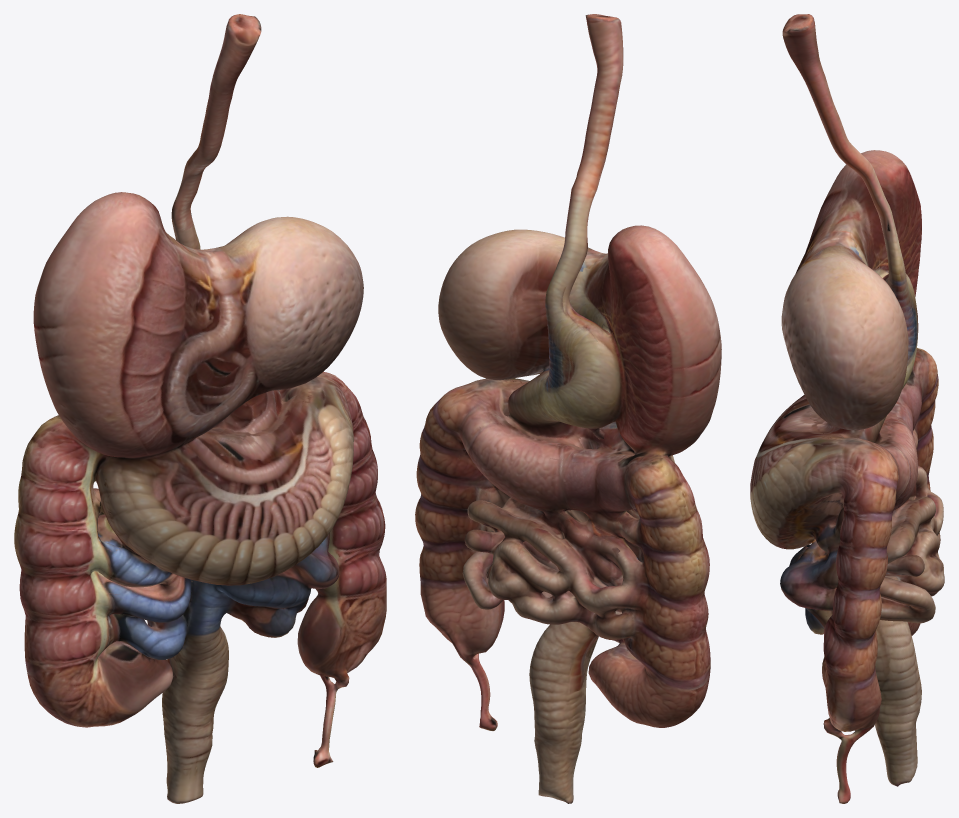
File: stylizeddigestivesystem.fbx
The picture shows the model from 3 angles, left to right: view 1: azimuth 30°, elevation 25°; view 2: azimuth 150°, elevation 25°; view 3: azimuth 270°, elevation 25°; orthographic projection. The views are drawn at different scales.
Visible parts, largest first — view 1: Stylized Digestive System; view 2: Stylized Digestive System; view 3: Stylized Digestive System.
Part boxes in pixels (x1,y1,x2,y2): Stylized Digestive System: (14,14,386,803); Stylized Digestive System: (415,14,721,803); Stylized Digestive System: (750,14,944,803).
Size of the model in its own units: 32.96 by 76.1 by 17.54.
Materials: 1 (1 with a texture image).
